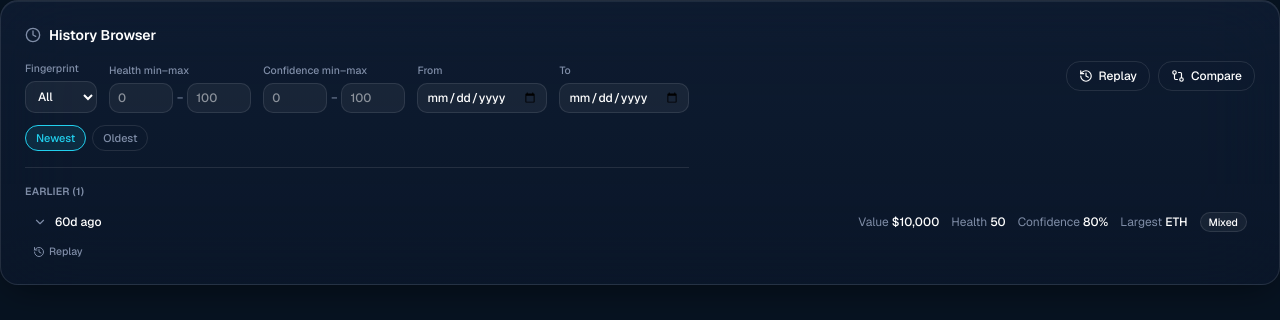
Test: HistoryBrowserSection — Replay › SINGLE SNAPSHOT: opening Replay shows 'Snapshot 1 of 1', both First/Previous and Next/Latest disabled
The image size is (1280, 320).
Click the button "Replay" in the row of "From": (1108, 76) [1066,61,1150,91]
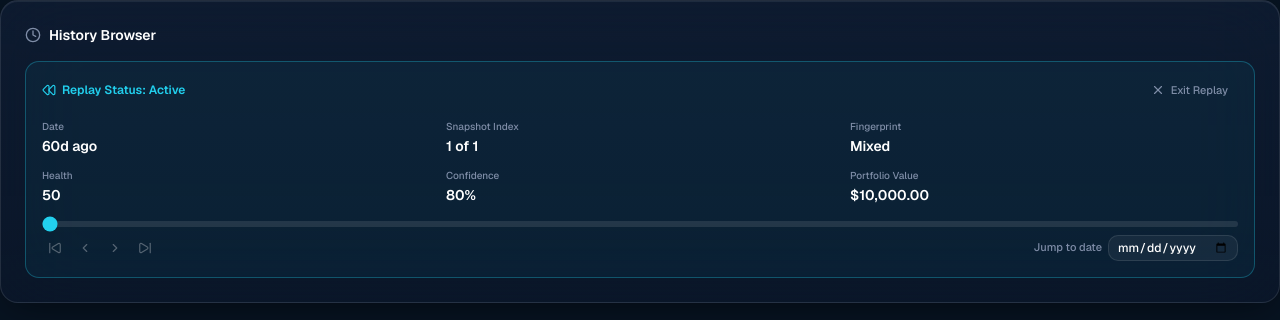
expect the text "Replay Status: Active" is shown: met, box [42,82,185,98]
expect the text "1 of 1" is shown: met, box [446,136,479,154]
expect the button named "First snapshot" is disabled: met, box [42,234,68,260]
